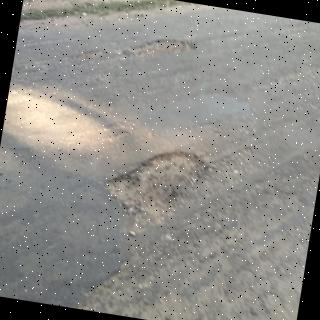pothole: (96, 151, 212, 235), (117, 33, 186, 56)
